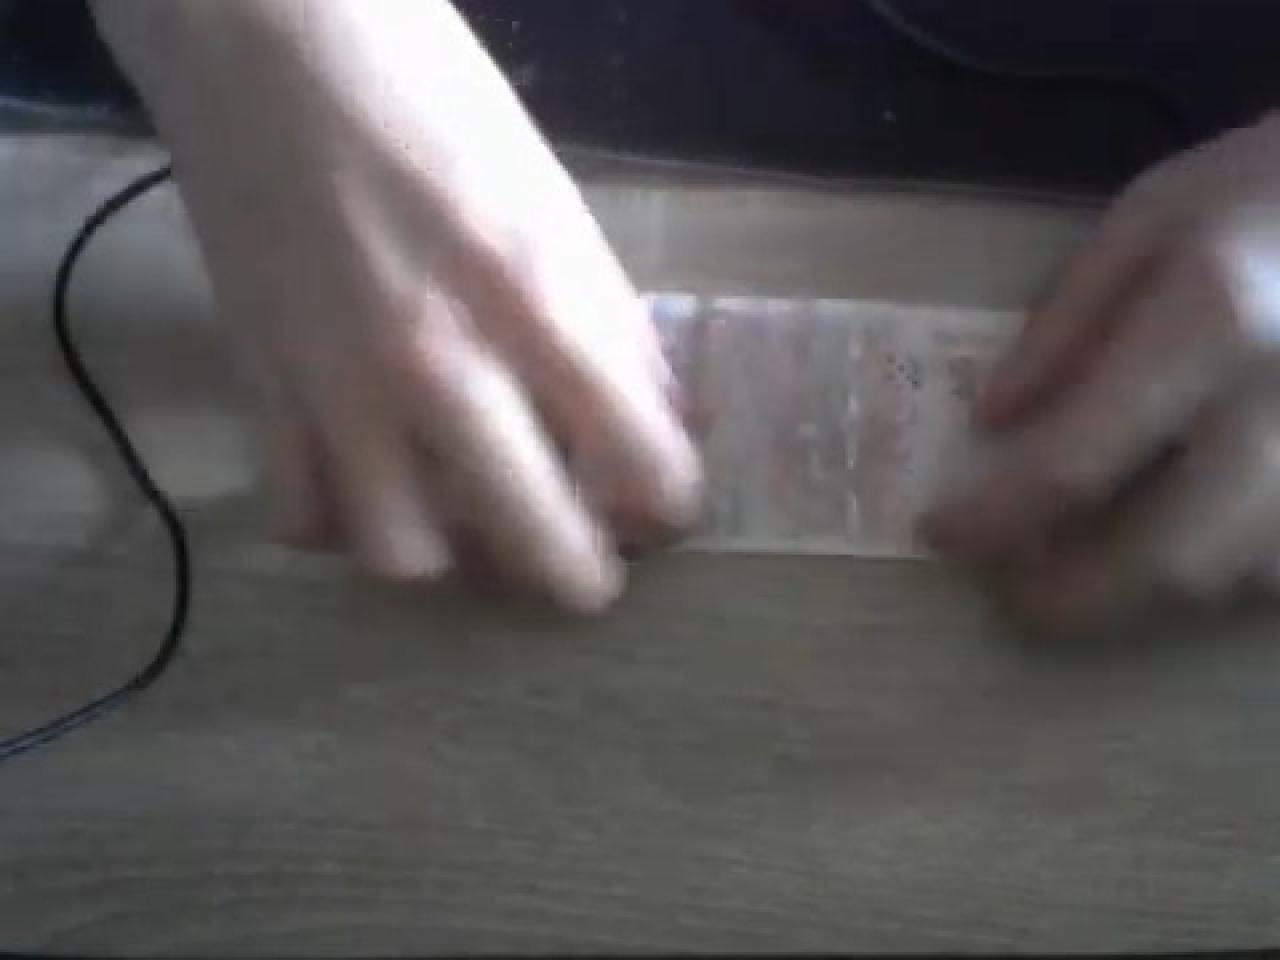5leva: (648, 293, 1021, 560)
